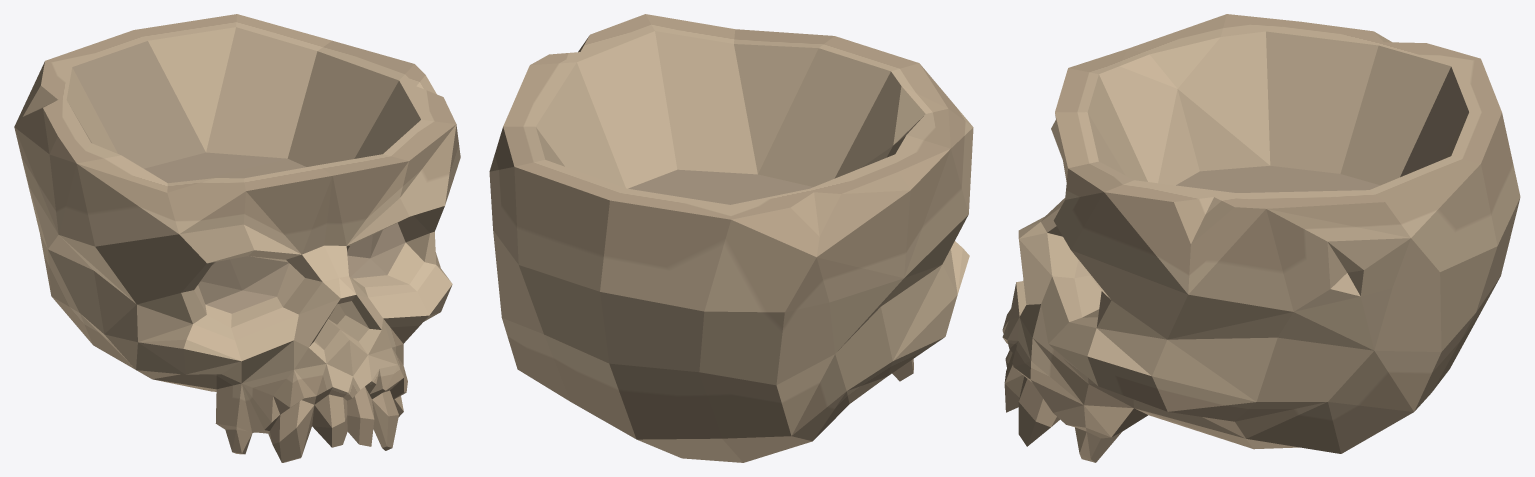
The model's file is SM_Prop_Bowl_03.fbx.
3 renders of one model, left to right at view 1: azimuth 30°, elevation 25°; view 2: azimuth 150°, elevation 25°; view 3: azimuth 270°, elevation 25°, orthographic. The views are drawn at different scales.
Parts seen in each view (by area): view 1: SM_Prop_Bowl_03; view 2: SM_Prop_Bowl_03; view 3: SM_Prop_Bowl_03.
Part boxes in pixels (x1=…): SM_Prop_Bowl_03: x1=14, y1=14, x2=460, y2=462; SM_Prop_Bowl_03: x1=489, y1=14, x2=973, y2=462; SM_Prop_Bowl_03: x1=1002, y1=14, x2=1520, y2=462.
Bounding box in the file's own units: 31.37 × 22.56 × 34.16.
